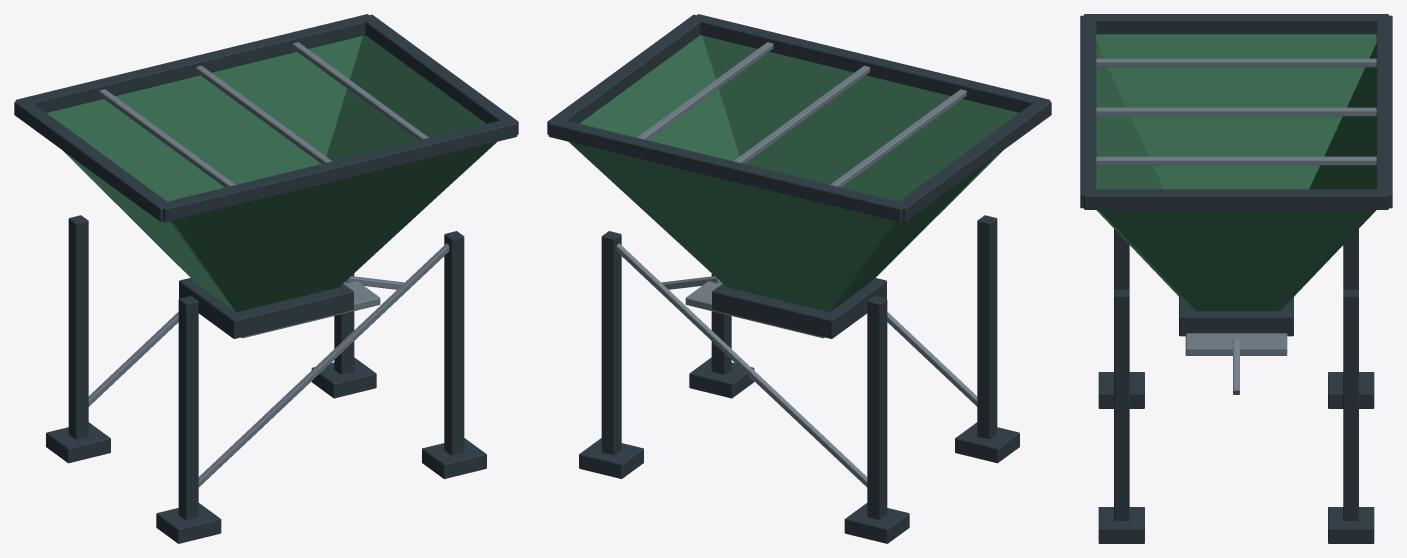
File: b07_aggregate_feed_hopper.glb
3 renders of one model, left to right at view 1: azimuth 30°, elevation 25°; view 2: azimuth 150°, elevation 25°; view 3: azimuth 270°, elevation 25°, orthographic. The views are drawn at different scales.
Visible parts, largest first — view 1: b07_aggregate_feed_hopper; view 2: b07_aggregate_feed_hopper; view 3: b07_aggregate_feed_hopper.
Part boxes in pixels (x1,y1,x2,y2): b07_aggregate_feed_hopper: (14, 14, 518, 543); b07_aggregate_feed_hopper: (547, 14, 1051, 543); b07_aggregate_feed_hopper: (1080, 14, 1392, 543).
Bounding box in the file's own units: 2.97 × 2.74 × 2.15.
